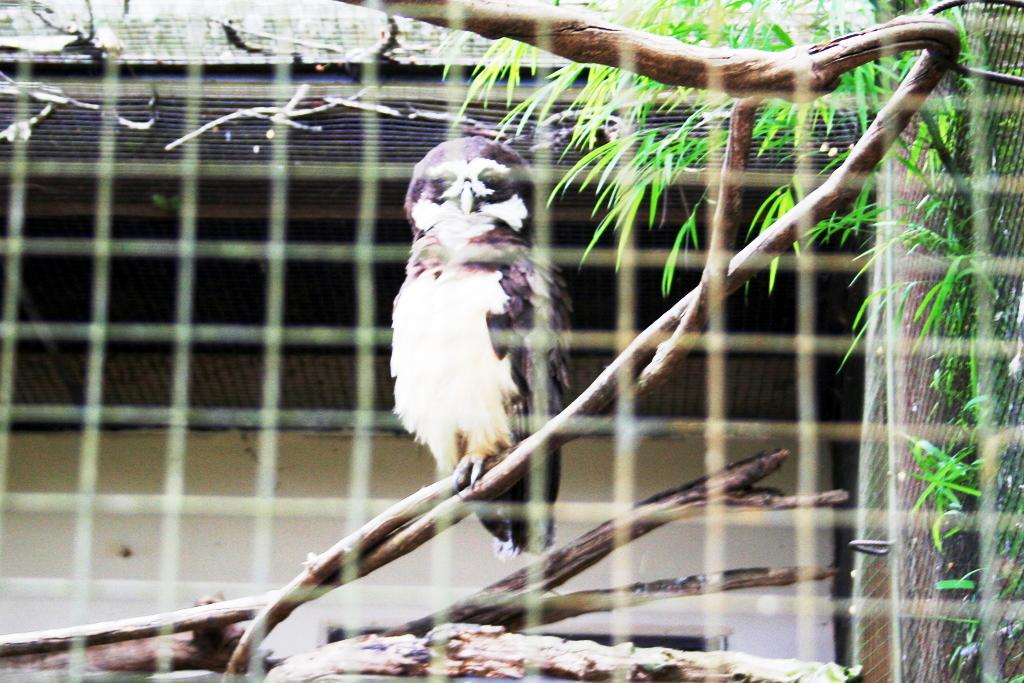Owl: (384, 138, 580, 569)
